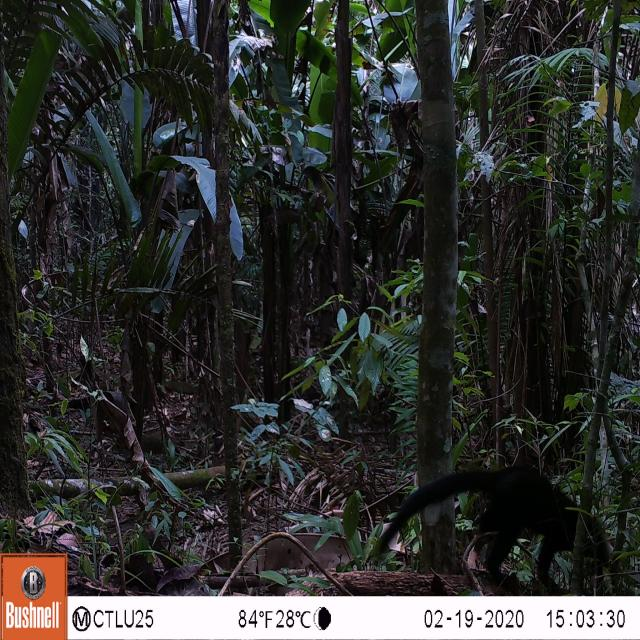Tayra: (371, 464, 586, 591)
